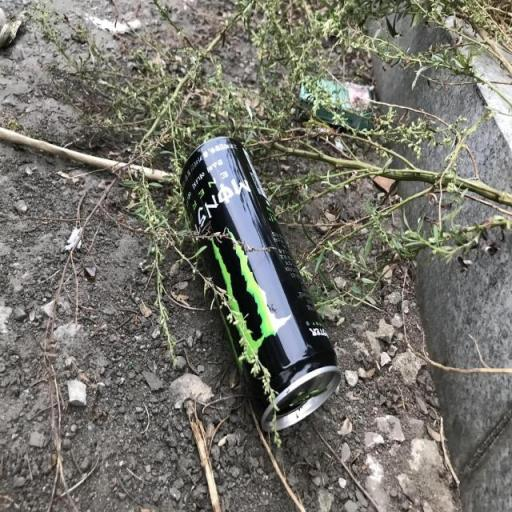metal: (164, 112, 384, 478)
